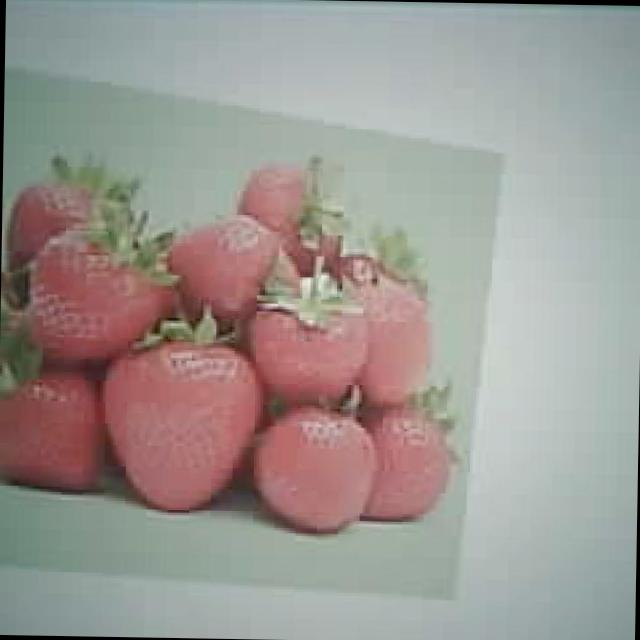strawberry: (100, 338, 264, 512), (30, 233, 167, 359), (255, 411, 376, 534), (256, 294, 366, 412), (0, 364, 94, 495)
